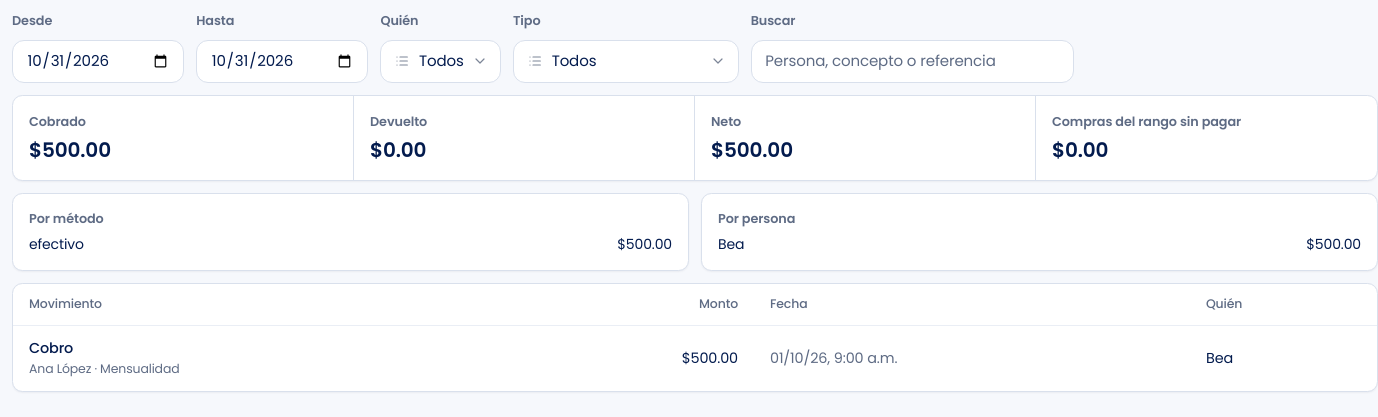
estados del corte de caja › filtrado por tipo y sin movimientos no es «no hay movimientos»
The width and height of the screenshot is (1378, 417).
Select "Devolución" in the dropdown labelled "Tipo" at (626, 61), box [513,40,739,83]
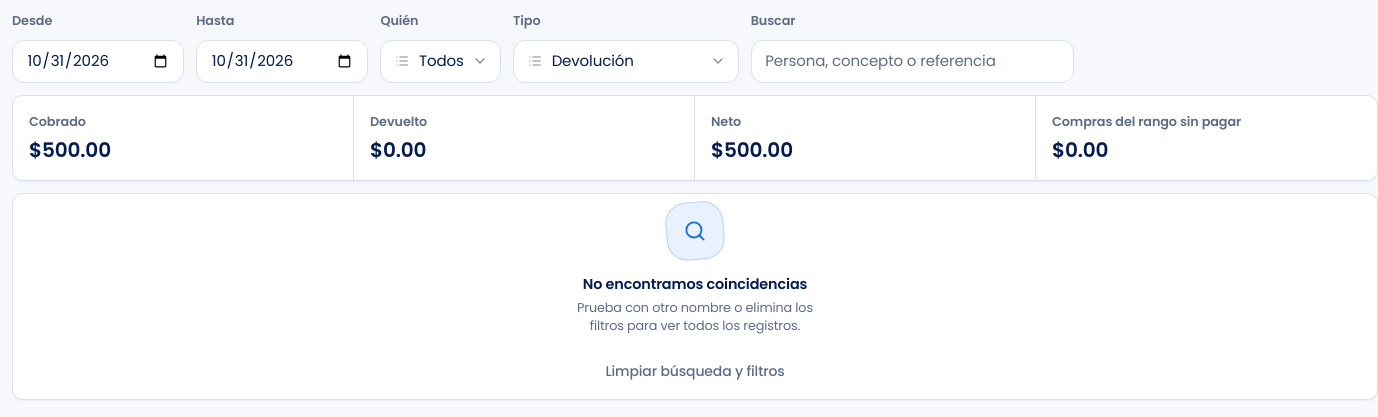
expect the text "No hay movimientos en esas fechas." is not shown: met
expect the element that starts with "No encontramos coincidencias" is shown: met, box [577,200,813,391]
// Sin filtros, el rango vacío sí dice que no hay movimientos.
Click the button "Limpiar búsqueda y filtros" at (695, 371), box [595,351,795,391]
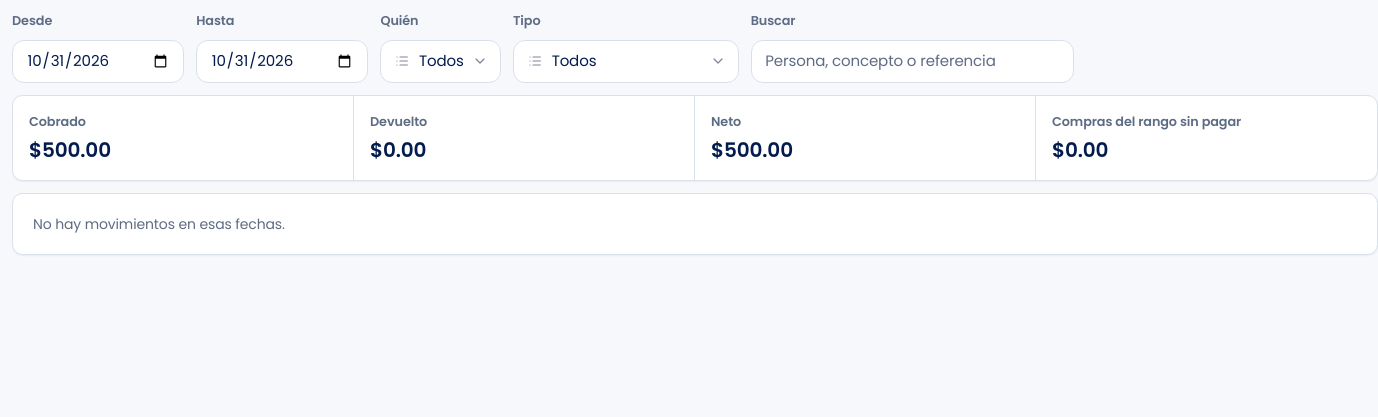
expect the text "No hay movimientos en esas fechas." is shown: met, box [33,214,285,234]
